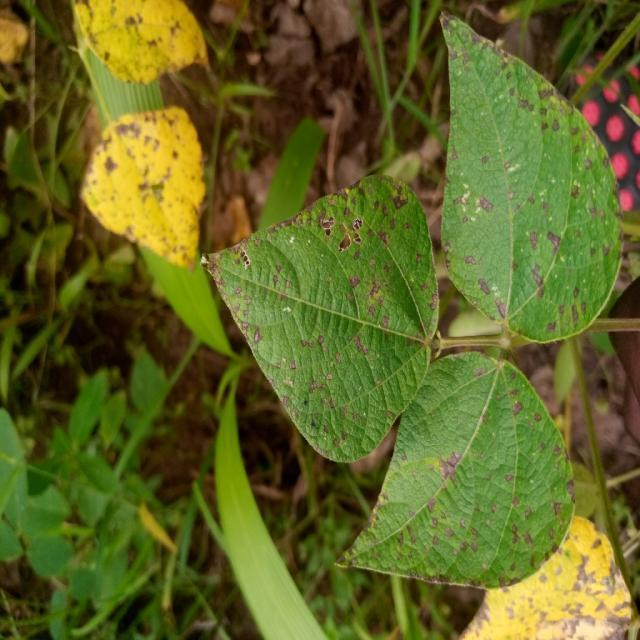mozaik: (0, 68, 224, 290)
